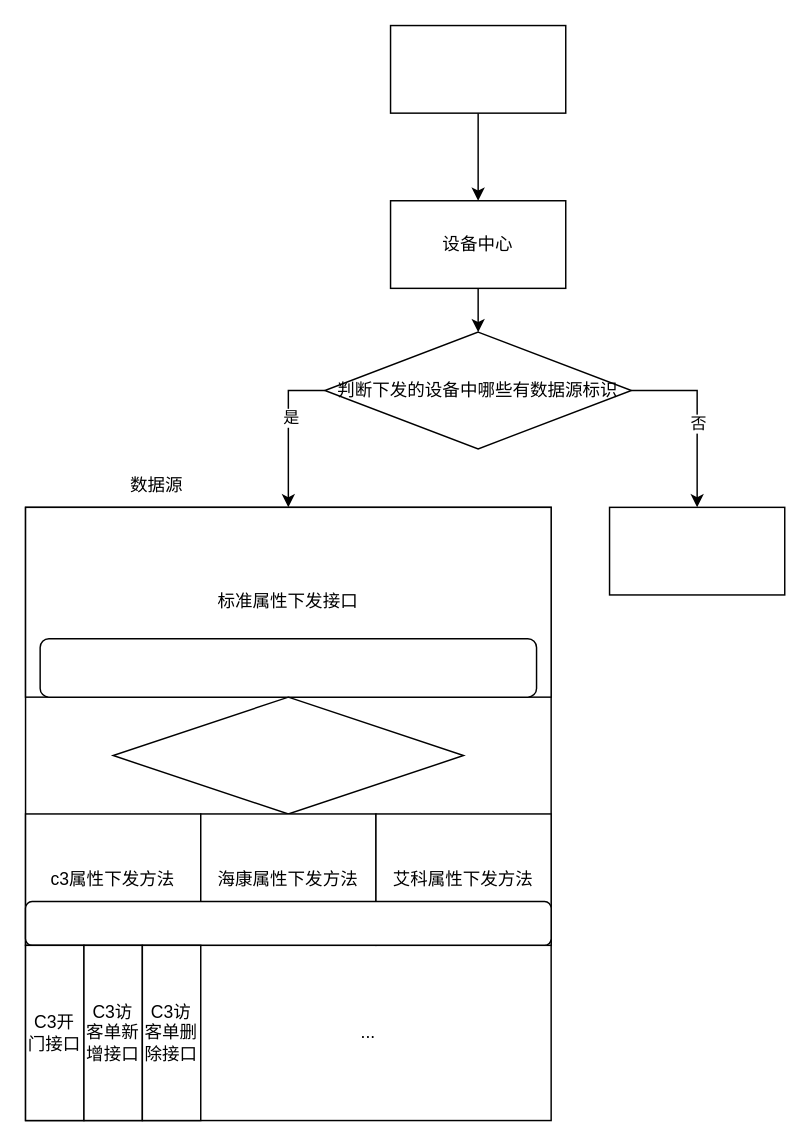
This 810x1146 diagram has some shape labels left out. Each missing label, with the centre of its shape:
edge: (x=696, y=550)
图形引擎: (x=477, y=68)
根据数据源id进行路由相应的子系统属性下发方法: (x=288, y=755)
根据设备ID查询绑定的数据源ID: (x=288, y=667)
该层根据物模型属性标识符判断要调用的子系统API: (x=287, y=922)
